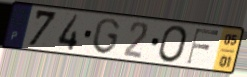2: (121, 21, 149, 61)
4: (55, 13, 80, 53)
7: (25, 8, 59, 48)
F: (185, 28, 221, 66)
G: (90, 17, 122, 56)
O: (157, 24, 190, 65)
